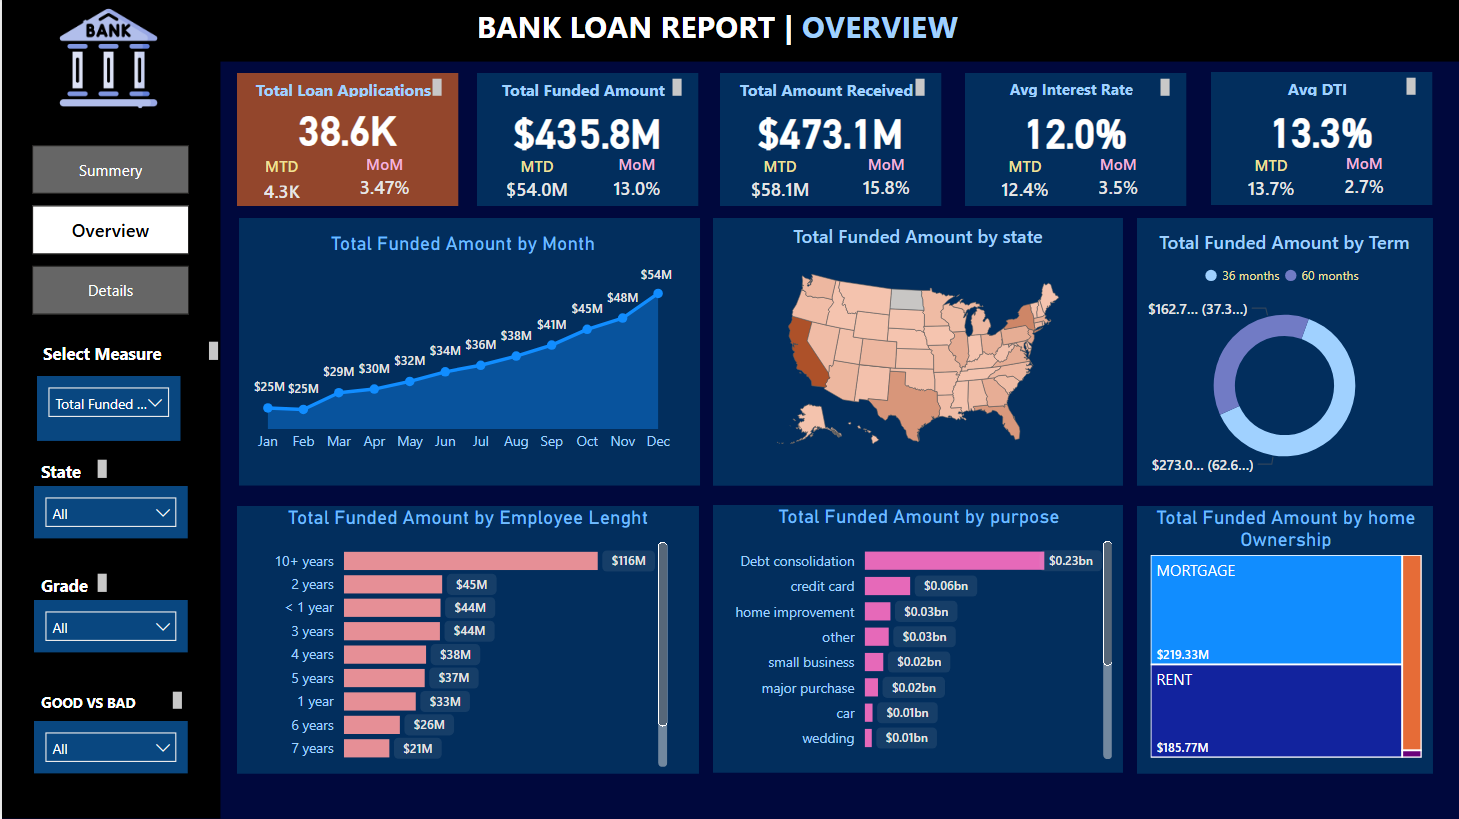

The dashboard page shown, as its layout file describes it:
{"tool":"powerbi","page":{"name":"Overview","canvas":[1280,720],"ordinal":1},"visuals":[{"type":"shape","box":[0,36,192,683.8],"z":0},{"type":"shape","box":[1061.2,64.2,194.5,116.7],"z":0,"group":"g5"},{"type":"shape","box":[206.2,65.2,194.5,116.7],"z":0,"group":"g1"},{"type":"shape","box":[417.3,65.2,194.5,116.7],"z":0,"group":"g2"},{"type":"shape","box":[630.3,65.2,194.5,116.7],"z":0,"group":"g3"},{"type":"shape","box":[845.2,65.2,194.5,116.7],"z":0,"group":"g4"},{"type":"shape","box":[0,0,1280,55],"z":1000},{"type":"card","fields":{"Values":["Measures (2).Total Loan Application"]},"box":[241.2,91.5,123.5,42.8],"z":1000,"group":"g1"},{"type":"card","fields":{"Values":["Measures (2).Avg DTI"]},"box":[1066.8,92.1,182.9,44.7],"z":1000,"group":"g5"},{"type":"card","fields":{"Values":["Measures (2).Total Funded Amount"]},"box":[422.9,93.1,182.9,44.7],"z":1000,"group":"g2"},{"type":"card","fields":{"Values":["Measures (2).Total Amount Recevied"]},"box":[635.9,93.1,182.9,44.7],"z":1000,"group":"g3"},{"type":"card","fields":{"Values":["Measures (2).Avg Interest Rate"]},"box":[850.8,93.1,182.9,44.7],"z":1000,"group":"g4"},{"type":"textbox","box":[411.4,0,457.1,47.7],"z":2000},{"type":"textbox","box":[1070.9,64.2,175.1,26.3],"z":2000,"group":"g5"},{"type":"textbox","box":[215.9,65.2,175.1,26.3],"z":2000,"group":"g1"},{"type":"textbox","box":[427,65.2,175.1,26.3],"z":2000,"group":"g2"},{"type":"textbox","box":[640,65.2,175.1,26.3],"z":2000,"group":"g3"},{"type":"textbox","box":[854.9,65.2,175.1,26.3],"z":2000,"group":"g4"},{"type":"group","id":"g1","title":"Group 1","box":[206.2,65.2,194.5,116.7],"z":3000},{"type":"card","title":"MTD","fields":{"Values":["Measures (2).MTD Avg DTI"]},"box":[1072.6,137,82.7,42.8],"z":3000,"group":"g5"},{"type":"card","title":"MTD","fields":{"Values":["Measures (2).MTD Loan Funded Amount"]},"box":[428.7,138,82.7,42.8],"z":3000,"group":"g2"},{"type":"card","title":"MTD","fields":{"Values":["Measures (2).MTD total Amount Recived"]},"box":[641.7,138,82.7,42.8],"z":3000,"group":"g3"},{"type":"card","title":"MTD","fields":{"Values":["Measures (2).MTD Avg Int Rate"]},"box":[856.6,138,82.7,42.8],"z":3000,"group":"g4"},{"type":"card","title":"MTD","fields":{"Values":["Measures (2).MTD Loan Application"]},"box":[215.9,138.1,59.3,39.9],"z":3000,"group":"g1"},{"type":"group","id":"g2","title":"Group 1","box":[417.3,65.2,194.5,117.5],"z":4000},{"type":"card","title":"MoM","fields":{"Values":["Measures (2).MOM DTI"]},"box":[1167,135,58.4,44.7],"z":4000,"group":"g5"},{"type":"card","title":"MoM","fields":{"Values":["Measures (2).MOM Funded Amount"]},"box":[523.1,136,70,46.7],"z":4000,"group":"g2"},{"type":"card","title":"MoM","fields":{"Values":["Measures (2).MOM Total Amont Receivd"]},"box":[741.9,136,69.1,44.7],"z":4000,"group":"g3"},{"type":"card","title":"MoM","fields":{"Values":["Measures (2).MOM Avg int Rate"]},"box":[951,136,58.4,44.7],"z":4000,"group":"g4"},{"type":"card","title":"MoM","fields":{"Values":["Measures (2).MOM Total Application"]},"box":[307.4,136.2,57.4,45.7],"z":4000,"group":"g1"},{"type":"group","id":"g3","title":"Group 1","box":[630.3,65.2,194.5,116.7],"z":5000},{"type":"group","id":"g4","title":"Group 1","box":[845.2,65.2,194.5,116.7],"z":6000},{"type":"group","id":"g5","title":"Group 1","box":[1061.2,64.2,194.5,116.7],"z":7000},{"type":"slicer","fields":{"Values":["financial_loan.address_state"]},"box":[28.1,427.6,135.2,45.7],"z":8000},{"type":"textbox","box":[29,399.5,68.5,28.1],"z":9000},{"type":"slicer","fields":{"Values":["financial_loan.sub_grade"]},"box":[28.1,527.7,135.2,45.7],"z":10000},{"type":"textbox","box":[29,499.6,68.5,28.1],"z":11000},{"type":"slicer","fields":{"Values":["financial_loan.Good And Bad Loan"]},"box":[28.1,634,135.2,45.7],"z":12000},{"type":"textbox","box":[29,603.2,134.3,30.7],"z":13000},{"type":"shape","box":[208.1,192.3,405,235],"z":14000},{"type":"areaChart","fields":{"Y":["Measures (2).Total Funded Amount"],"Category":["Date Table.Month"]},"box":[216,204.6,377.6,202],"z":15000},{"type":"slicer","fields":{"Values":["Select Measure.Select Measure"]},"box":[30.7,331,125.6,57.1],"z":16000},{"type":"textbox","box":[30.7,295.9,164.2,28.1],"z":17000},{"type":"shape","box":[624.3,192.3,360,235.3],"z":18000},{"type":"shapeMap","fields":{"Value":["Measures (2).Total Funded Amount"],"Category":["financial_loan.address_state"]},"box":[662,197.6,284.5,216],"z":19000},{"type":"shape","box":[996.6,192.3,259.9,235.3],"z":20000},{"type":"donutChart","fields":{"Y":["Measures (2).Total Funded Amount"],"Category":["financial_loan.term"]},"box":[993.1,202.8,266,224.8],"z":21000},{"type":"shape","box":[206.3,445.2,405.7,235.3],"z":22000},{"type":"clusteredBarChart","fields":{"Y":["Measures (2).Total Funded Amount"],"Category":["financial_loan.emp_length"]},"box":[229.2,445.2,360,234.4],"z":23000},{"type":"shape","box":[624.3,444.3,360,235.3],"z":24000},{"type":"clusteredBarChart","fields":{"Y":["Measures (2).Total Funded Amount"],"Category":["financial_loan.purpose"]},"box":[630.4,444.3,349.5,228.3],"z":25000},{"type":"shape","box":[996.6,445.2,259.9,235.3],"z":26000},{"type":"treemap","fields":{"Values":["Measures (2).Total Funded Amount"],"Group":["financial_loan.home_ownership"]},"box":[1003.6,445.2,247.6,225.7],"z":27000},{"type":"pageNavigator","box":[26.3,128.2,138.7,149.3],"z":28000},{"type":"image","box":[43,0,101,102.7],"z":29000}]}

Visuals, with their boxes on the page's 1280x720 design canvas (x1, y1, x2, y2). These are canvas units, not pixel positions in the 1459x819 screenshot, which may show the page scaled, cropped or inside an application window:
shape: box(0, 36, 192, 720)
shape: box(1061, 64, 1256, 181)
shape: box(206, 65, 401, 182)
shape: box(417, 65, 612, 182)
shape: box(630, 65, 825, 182)
shape: box(845, 65, 1040, 182)
shape: box(0, 0, 1280, 55)
card - Measures (2).Total Loan Application: box(241, 92, 365, 134)
card - Measures (2).Avg DTI: box(1067, 92, 1250, 137)
card - Measures (2).Total Funded Amount: box(423, 93, 606, 138)
card - Measures (2).Total Amount Recevied: box(636, 93, 819, 138)
card - Measures (2).Avg Interest Rate: box(851, 93, 1034, 138)
textbox: box(411, 0, 868, 48)
textbox: box(1071, 64, 1246, 90)
textbox: box(216, 65, 391, 92)
textbox: box(427, 65, 602, 92)
textbox: box(640, 65, 815, 92)
textbox: box(855, 65, 1030, 92)
"Group 1" group: box(206, 65, 401, 182)
"MTD" card: box(1073, 137, 1155, 180)
"MTD" card: box(429, 138, 511, 181)
"MTD" card: box(642, 138, 724, 181)
"MTD" card: box(857, 138, 939, 181)
"MTD" card: box(216, 138, 275, 178)
"Group 1" group: box(417, 65, 612, 183)
"MoM" card: box(1167, 135, 1225, 180)
"MoM" card: box(523, 136, 593, 183)
"MoM" card: box(742, 136, 811, 181)
"MoM" card: box(951, 136, 1009, 181)
"MoM" card: box(307, 136, 365, 182)
"Group 1" group: box(630, 65, 825, 182)
"Group 1" group: box(845, 65, 1040, 182)
"Group 1" group: box(1061, 64, 1256, 181)
slicer - financial_loan.address_state: box(28, 428, 163, 473)
textbox: box(29, 400, 98, 428)
slicer - financial_loan.sub_grade: box(28, 528, 163, 573)
textbox: box(29, 500, 98, 528)
slicer - financial_loan.Good And Bad Loan: box(28, 634, 163, 680)
textbox: box(29, 603, 163, 634)
shape: box(208, 192, 613, 427)
areaChart - Measures (2).Total Funded Amount x Date Table.Month: box(216, 205, 594, 407)
slicer - Select Measure.Select Measure: box(31, 331, 156, 388)
textbox: box(31, 296, 195, 324)
shape: box(624, 192, 984, 428)
shapeMap - Measures (2).Total Funded Amount x financial_loan.address_state: box(662, 198, 946, 414)
shape: box(997, 192, 1256, 428)
donutChart - Measures (2).Total Funded Amount x financial_loan.term: box(993, 203, 1259, 428)
shape: box(206, 445, 612, 680)
clusteredBarChart - Measures (2).Total Funded Amount x financial_loan.emp_length: box(229, 445, 589, 680)
shape: box(624, 444, 984, 680)
clusteredBarChart - Measures (2).Total Funded Amount x financial_loan.purpose: box(630, 444, 980, 673)
shape: box(997, 445, 1256, 680)
treemap - Measures (2).Total Funded Amount x financial_loan.home_ownership: box(1004, 445, 1251, 671)
pageNavigator: box(26, 128, 165, 278)
image: box(43, 0, 144, 103)
